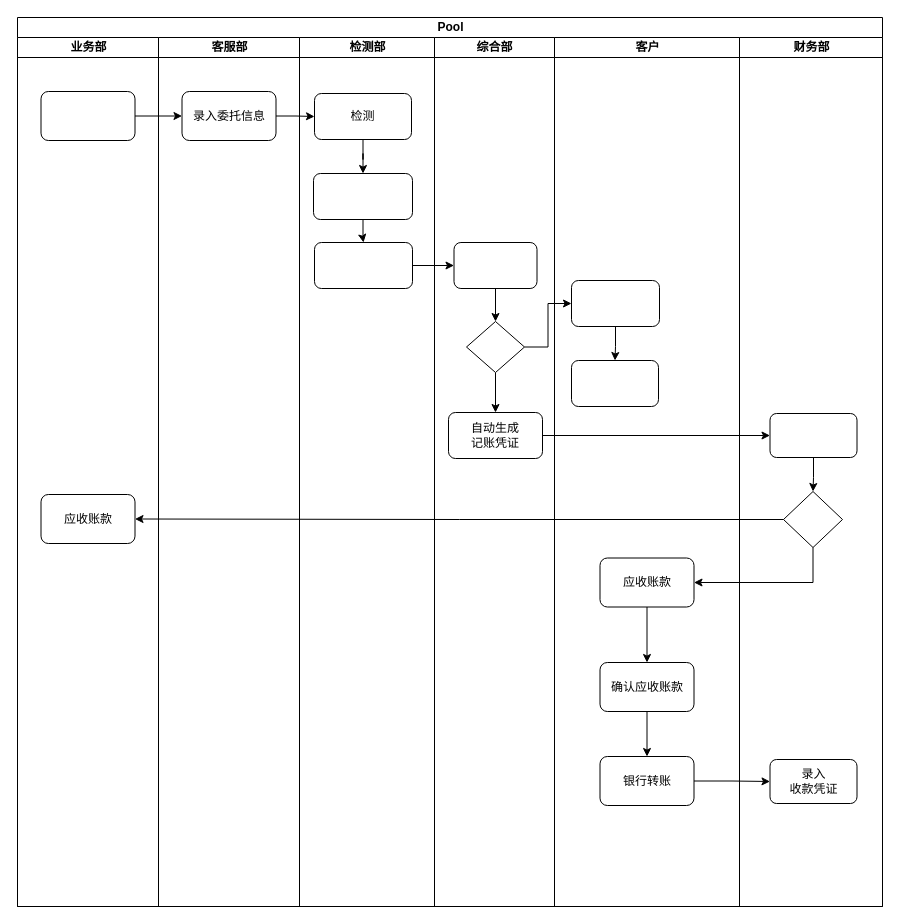
The diagram is 900 pixels wide and 924 high, and some of its shapes have lost their labels. Here are the shapes that lost their labels. From the top down, the centre of each, then its label:
At pixel 87 115: "录入工程信息".
At pixel 362 196: "确认检测项目".
At pixel 363 265: "出具报告".
At pixel 495 265: "发放报告".
At pixel 615 303: "接收报告".
At pixel 614 383: "确认报告".
At pixel 813 435: "确认 记账凭证".
